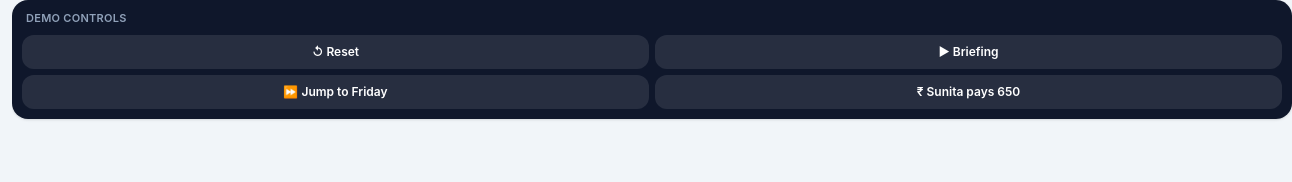
DemoBar › jump to Friday queues pending reminders for approval
The image size is (1292, 182).
Click the button "⏩ Jump to Friday": click(336, 92) x1=22 y1=74 x2=649 y2=108
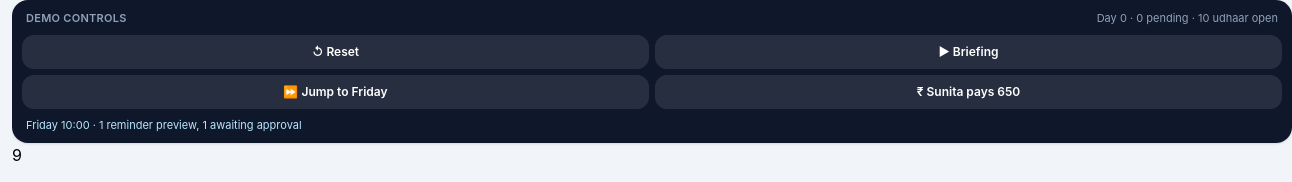
Result: the text "Friday 10:00 · 1 reminder preview, 1 awaiting approval" is shown at x1=26 y1=118 x2=302 y2=132
Result: the text with test id "queue" reads "9" at x1=12 y1=145 x2=22 y2=165
